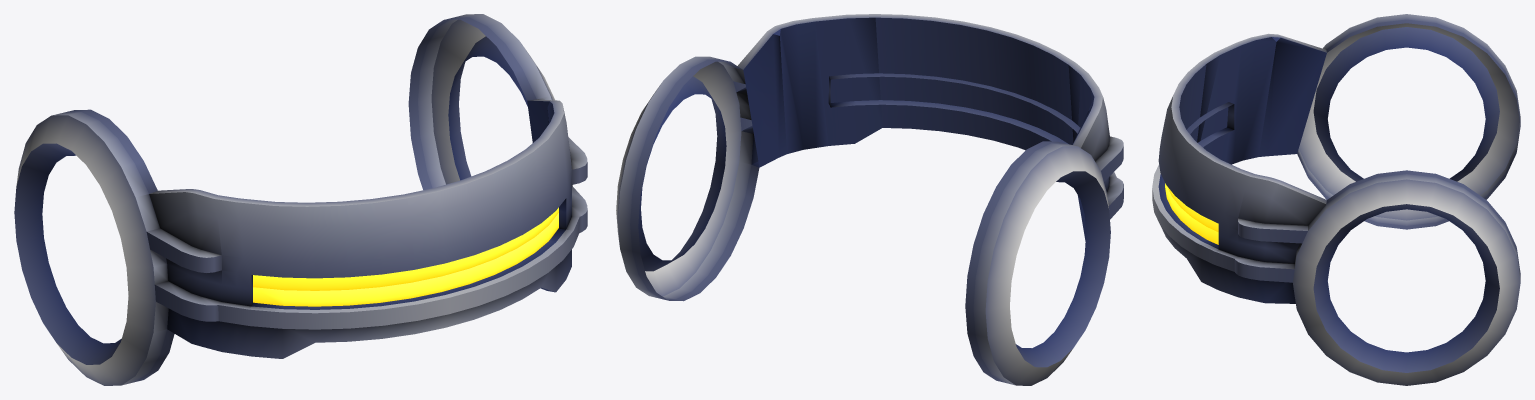
The model's file is BTLMN_Faces_A.glb.
3 renders of one model, left to right at view 1: azimuth 30°, elevation 25°; view 2: azimuth 150°, elevation 25°; view 3: azimuth 270°, elevation 25°, orthographic. The views are drawn at different scales.
Parts seen in each view (by area): view 1: Face_VR_Helmet_VR01; view 2: Face_VR_Helmet_VR01; view 3: Face_VR_Helmet_VR01.
Boxes of the visible parts, <box> form: Face_VR_Helmet_VR01: <box>14,14,587,385</box>; Face_VR_Helmet_VR01: <box>616,14,1123,385</box>; Face_VR_Helmet_VR01: <box>1152,14,1520,385</box>.
Size of the model in its own units: 1.03 by 0.5596 by 0.9046.
